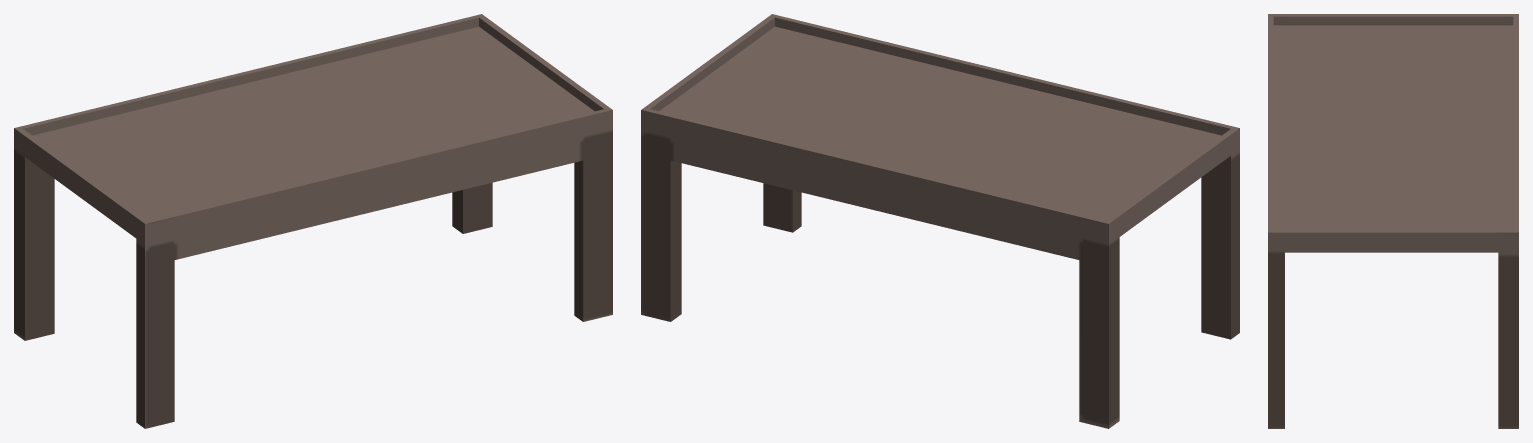
File: desk.obj
3 renders of one model, left to right at view 1: azimuth 30°, elevation 25°; view 2: azimuth 150°, elevation 25°; view 3: azimuth 270°, elevation 25°, orthographic. The views are drawn at different scales.
Visible parts, largest first — view 1: Cube.001; view 2: Cube.001; view 3: Cube.001.
Part boxes in pixels (x1,y1,x2,y2): Cube.001: (14,14,612,428); Cube.001: (641,14,1239,428); Cube.001: (1268,14,1518,428).
Bounding box in the file's own units: 4.12 × 1.73 × 2.
1 material, 1 textured.
